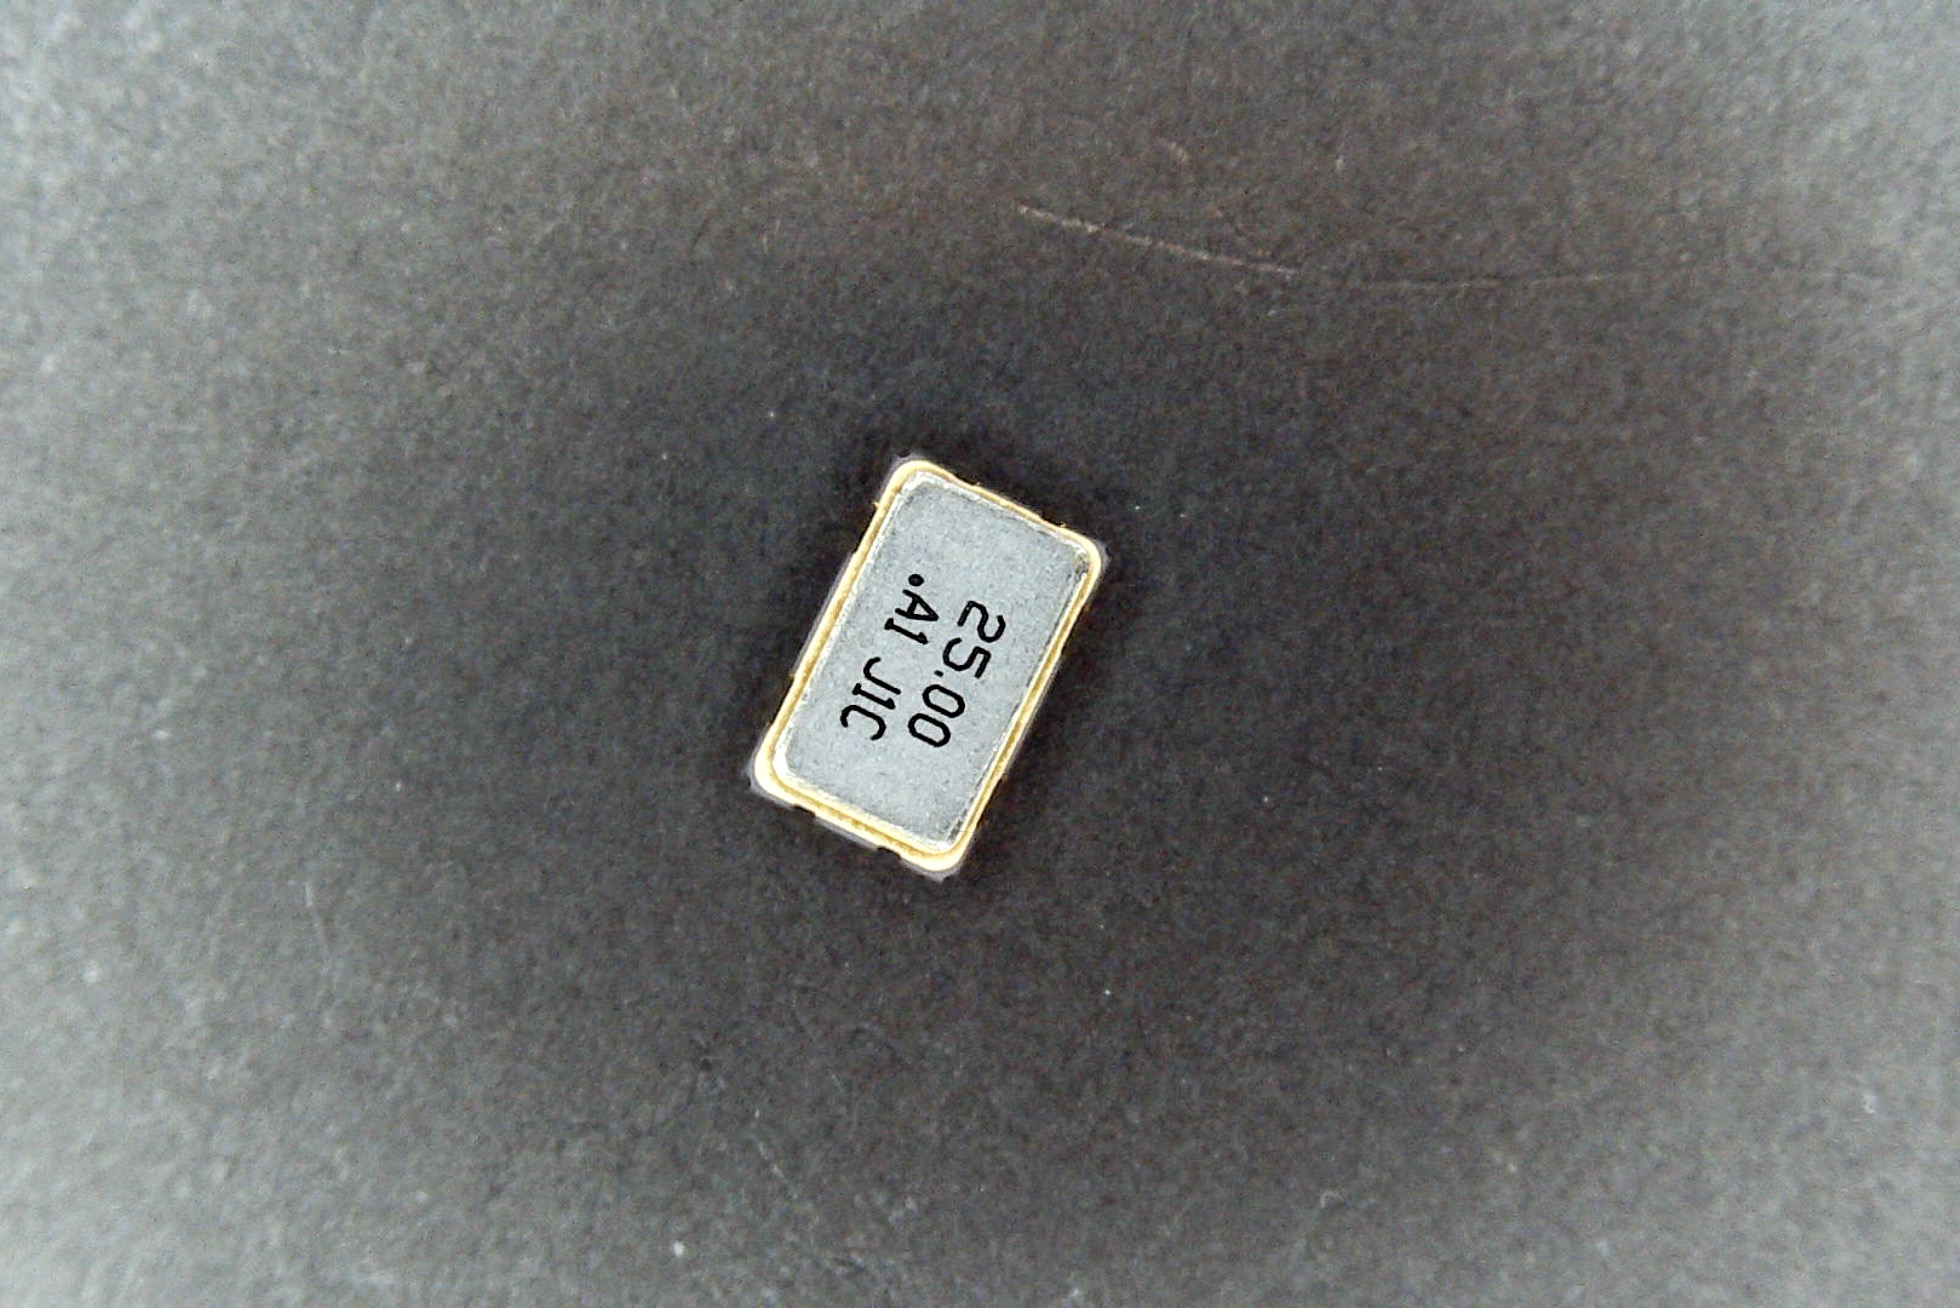bbox: (740, 455, 1108, 888)
